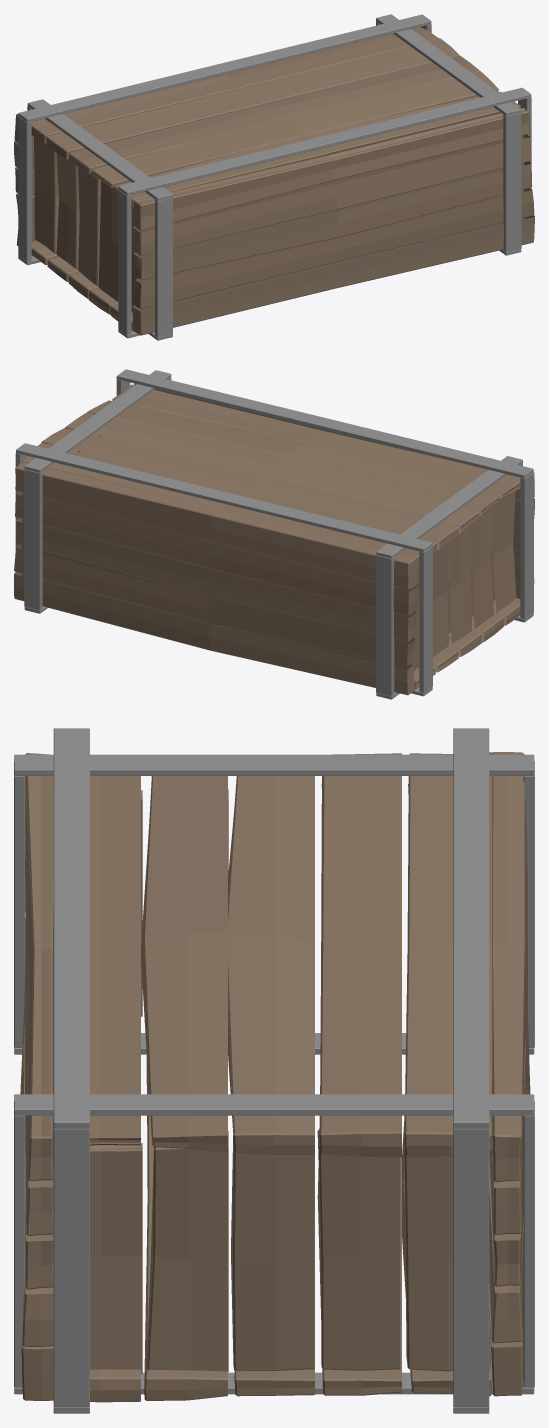
3 views of the same model, one above another, from view 1: azimuth 30°, elevation 25°; view 2: azimuth 150°, elevation 25°; view 3: azimuth 270°, elevation 25° (orthographic). The views are drawn at different scales.
Visible parts, largest first — view 1: Box; view 2: Box; view 3: Box.
Boxes of the visible parts, x1=… form: Box: x1=14, y1=14, x2=534, y2=340; Box: x1=14, y1=369, x2=534, y2=699; Box: x1=14, y1=728, x2=534, y2=1413.
Size of the model in its own units: 429 by 148 by 239.
